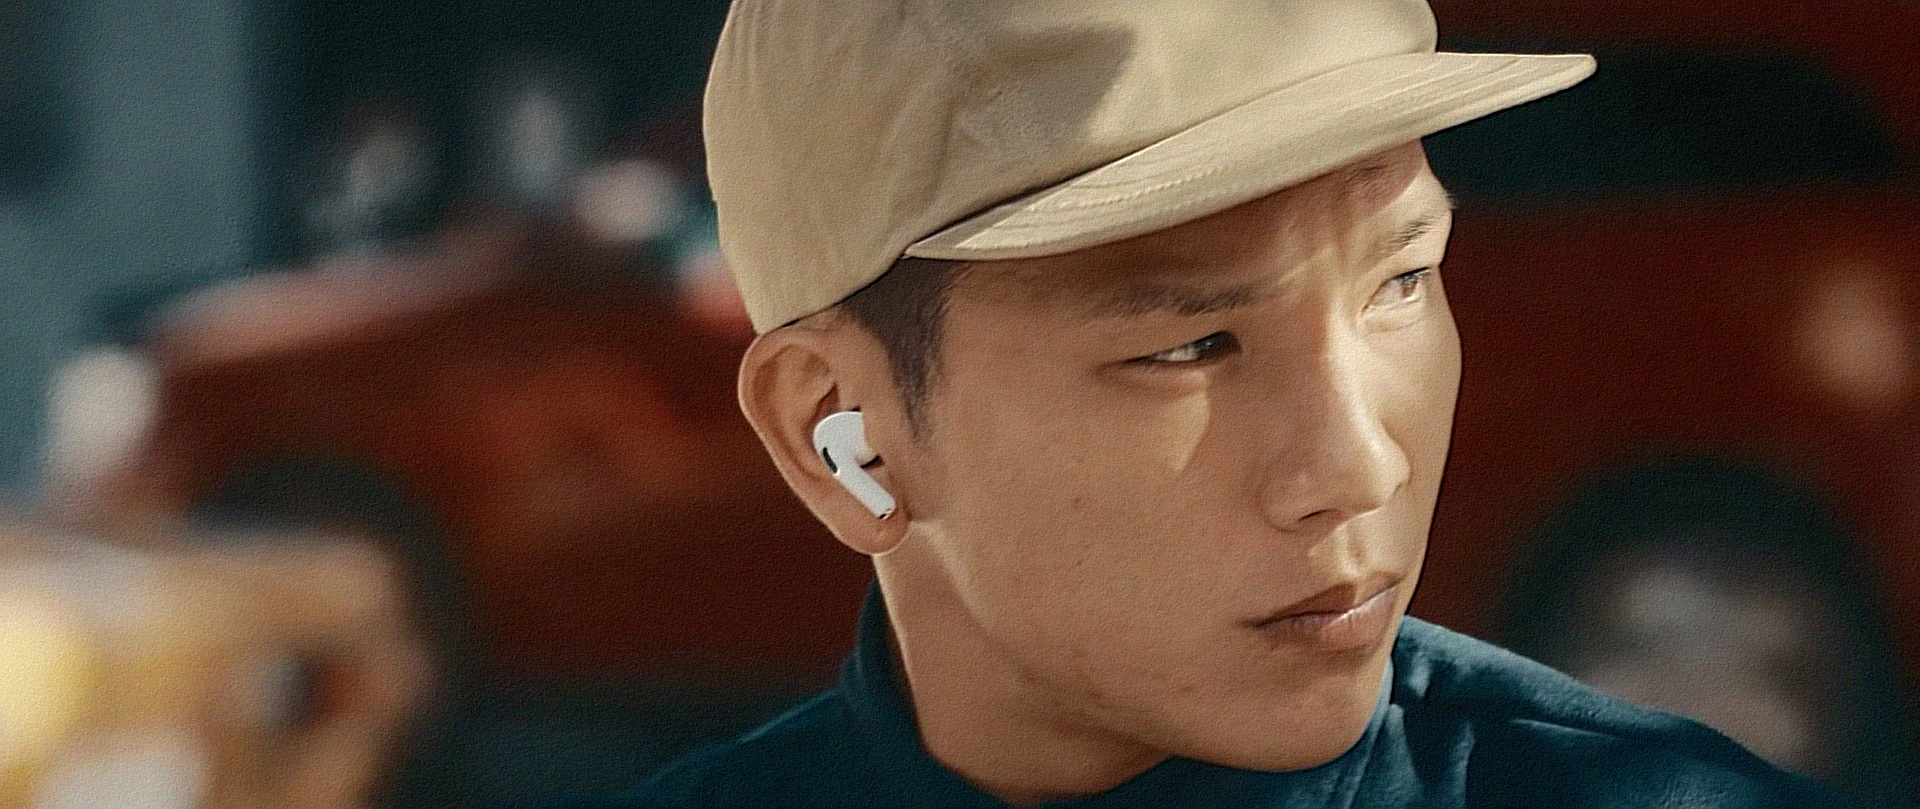earphone: (737, 328, 916, 557)
